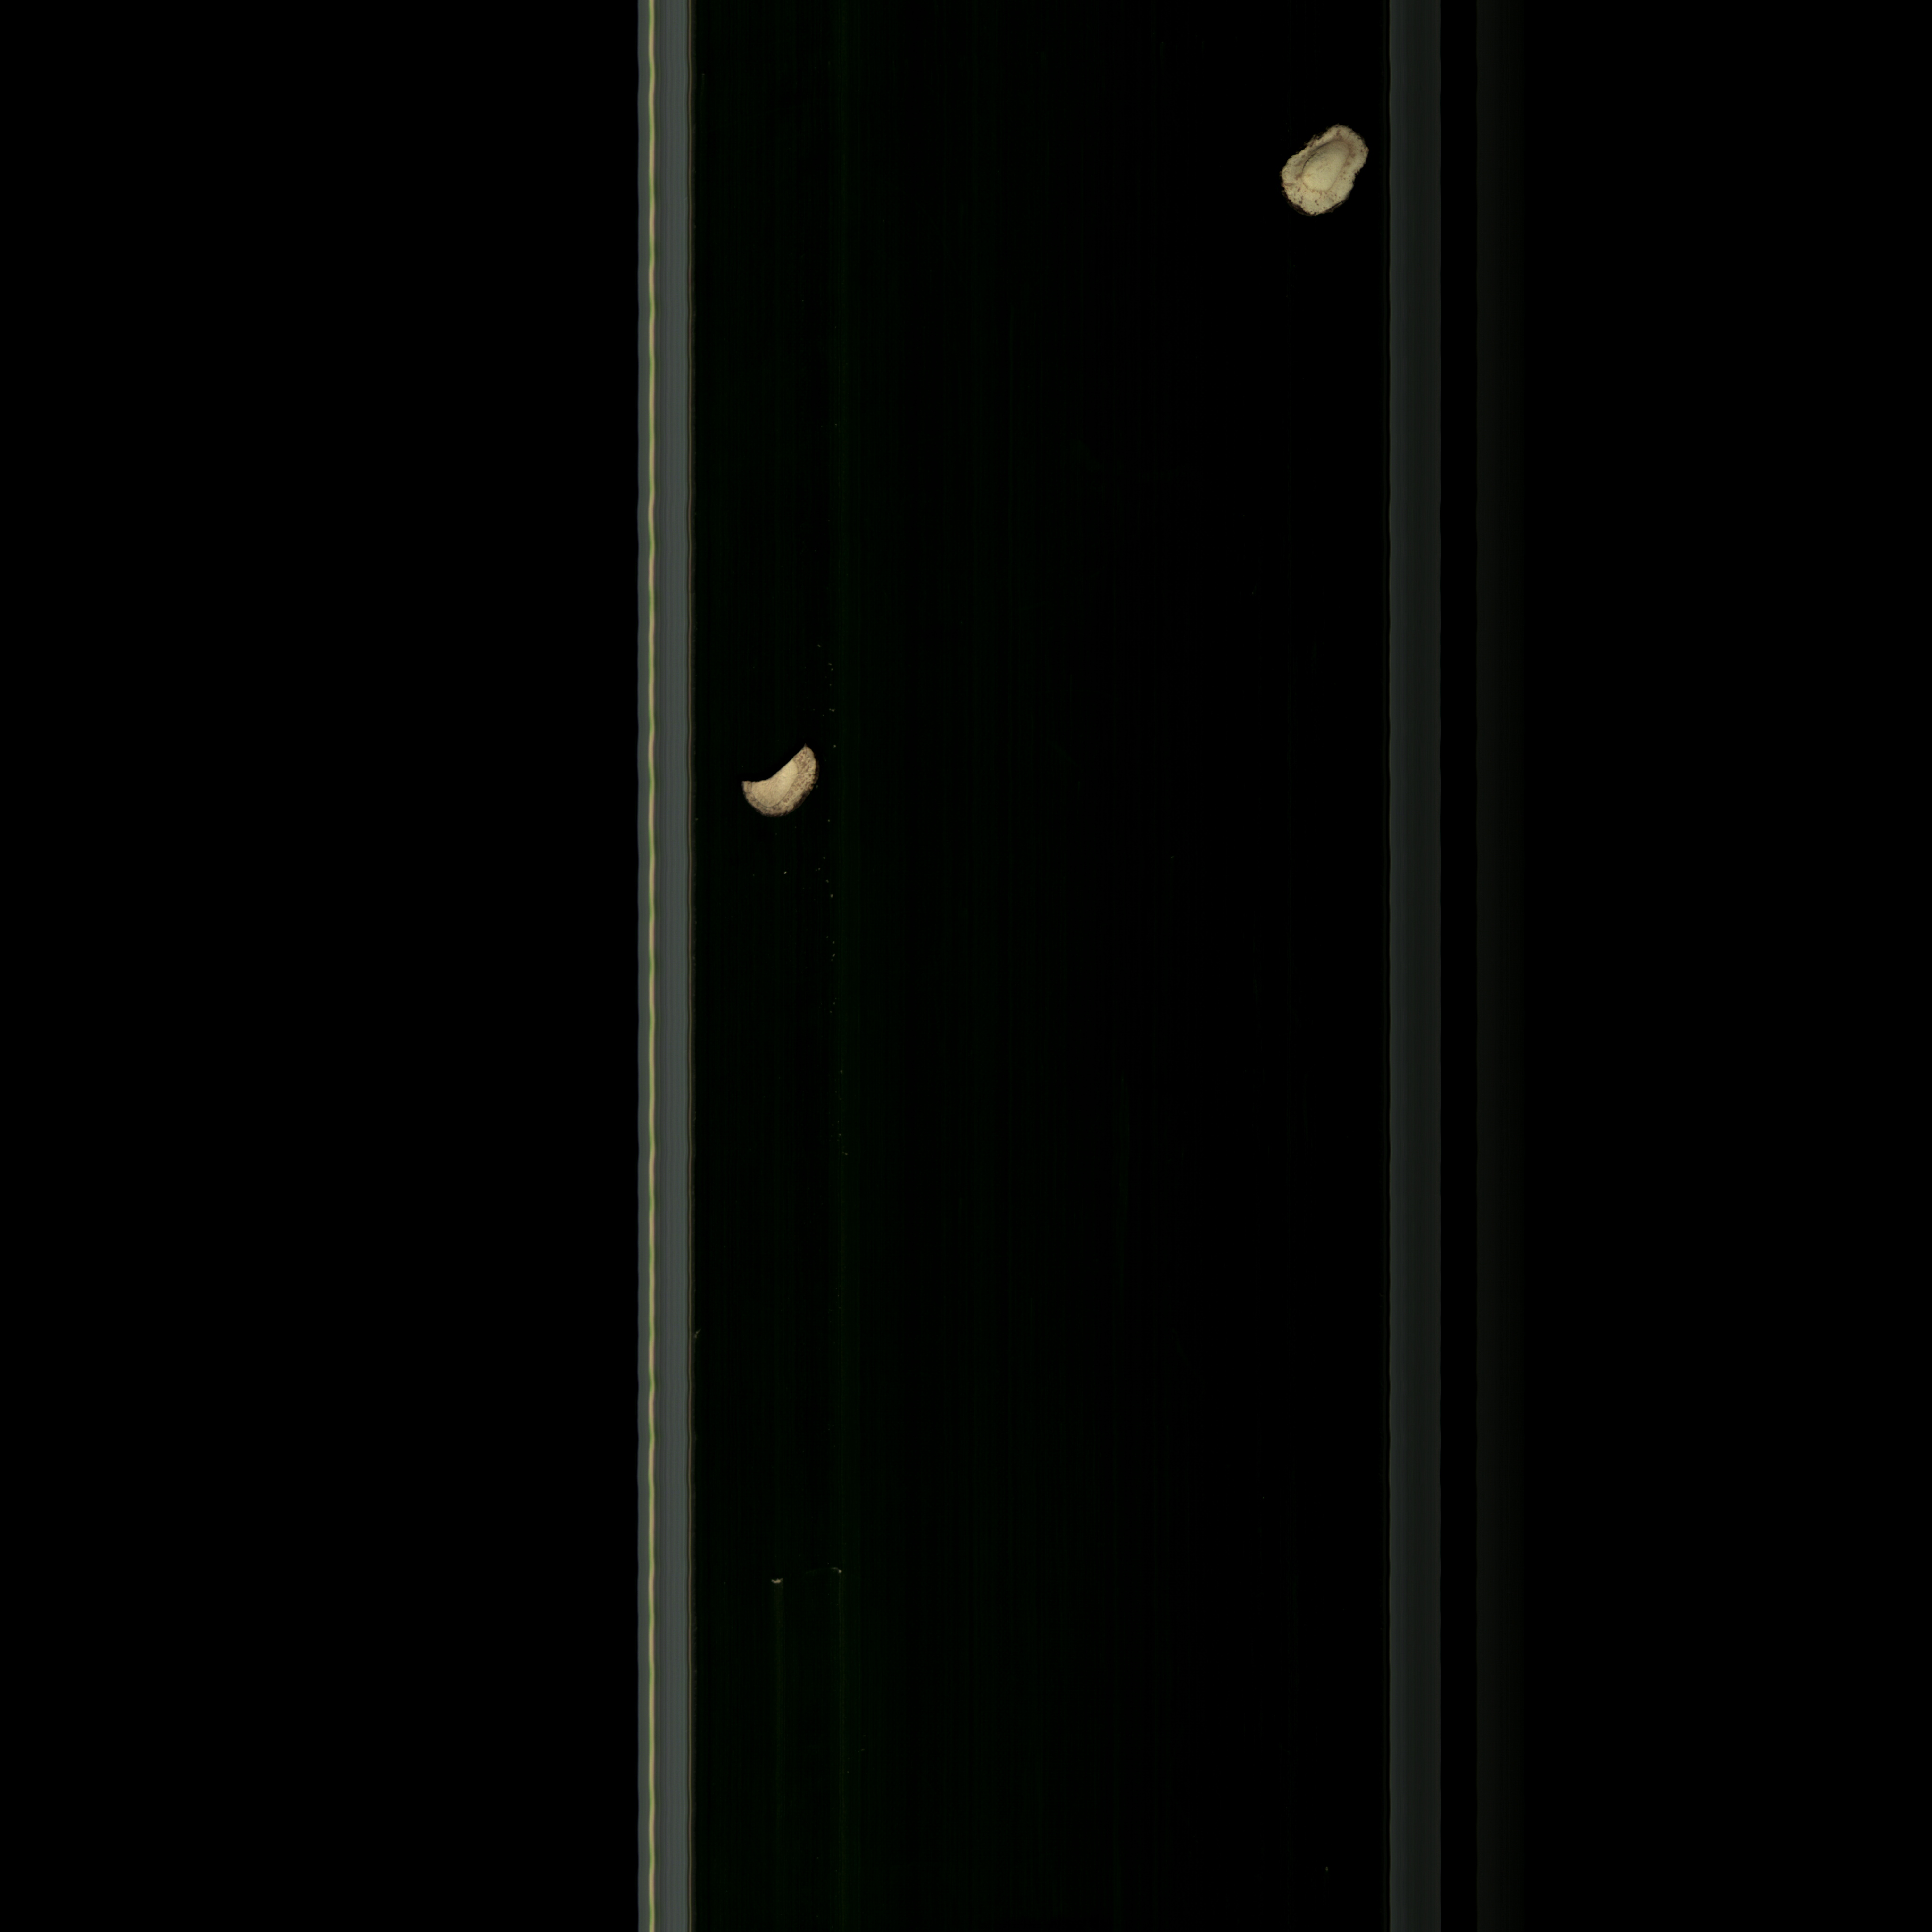debris: (740, 740, 826, 832)
moldy: (1270, 122, 1375, 230)
